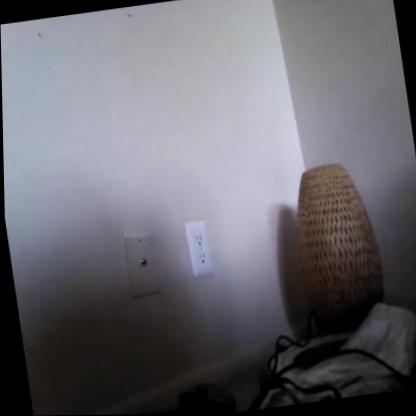OUTLET: (182, 217, 215, 276)
